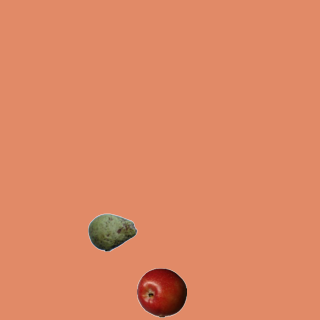Apple Braeburn: (136, 267, 186, 317)
Pear Stone: (87, 207, 137, 257)
